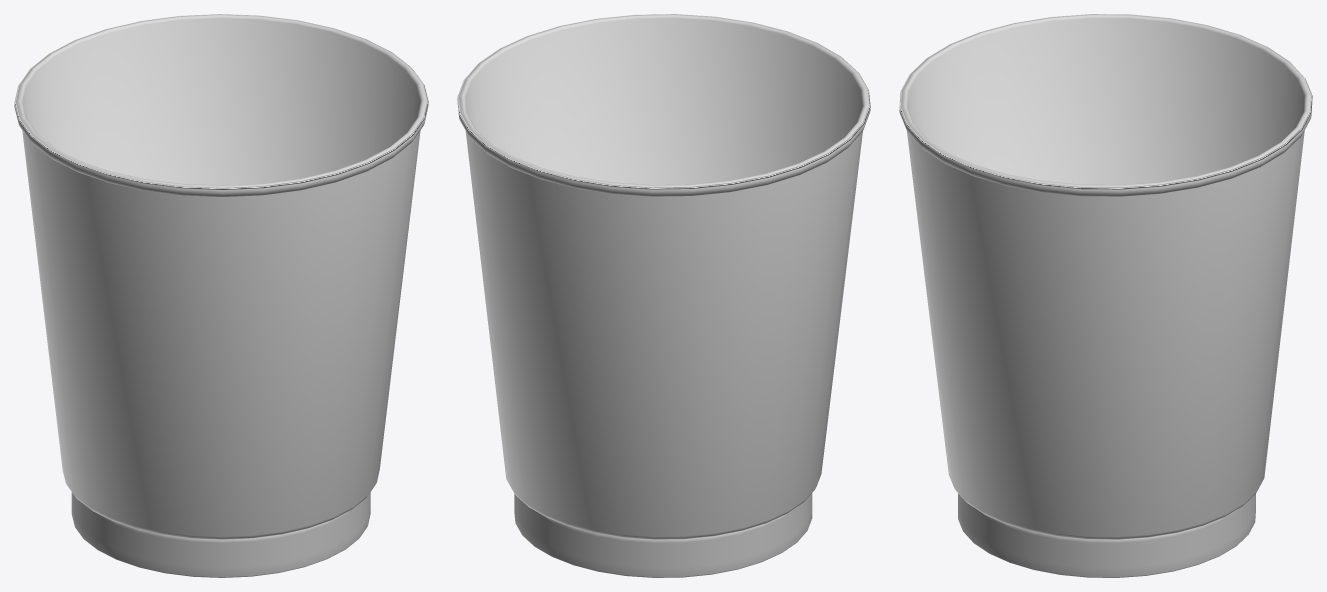
Rendered from 8cups.glb.
The picture shows the model from 3 angles, left to right: view 1: azimuth 30°, elevation 25°; view 2: azimuth 150°, elevation 25°; view 3: azimuth 270°, elevation 25°; orthographic projection.
Visible parts, largest first — view 1: cup8; view 2: cup8; view 3: cup8.
Boxes of the visible parts, x1=… form: cup8: x1=14, y1=14, x2=428, y2=577; cup8: x1=457, y1=14, x2=870, y2=577; cup8: x1=899, y1=14, x2=1312, y2=577.
Size of the model in its own units: 0.7554 by 0.8376 by 0.7554.
2 materials, 1 textured.
